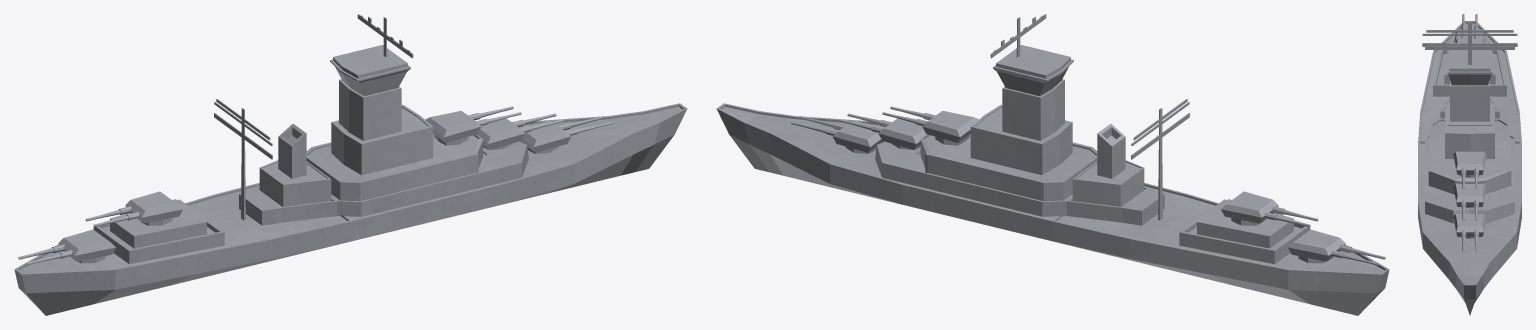
Rendered from battleship(dazytas).glb.
3 renders of one model, left to right at view 1: azimuth 30°, elevation 25°; view 2: azimuth 150°, elevation 25°; view 3: azimuth 270°, elevation 25°, orthographic. The views are drawn at different scales.
Parts seen in each view (by area): view 1: Cube; view 2: Cube; view 3: Cube.
Part boxes in pixels (box(x1,y1,x2,y2)): Cube: box(14, 14, 687, 315); Cube: box(716, 14, 1389, 315); Cube: box(1418, 14, 1521, 315).
Bounding box in the file's own units: 13.43 × 4.14 × 2.2.
Materials: 1 (1 with a texture image).
